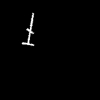double_crochet: (22, 14, 33, 45)
